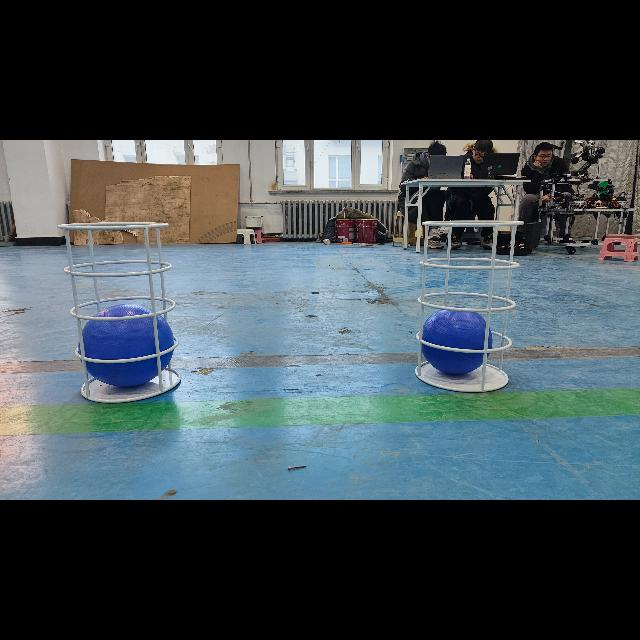B: (78, 304, 174, 388), (420, 306, 492, 376)
S: (55, 216, 187, 410), (408, 216, 532, 396)
